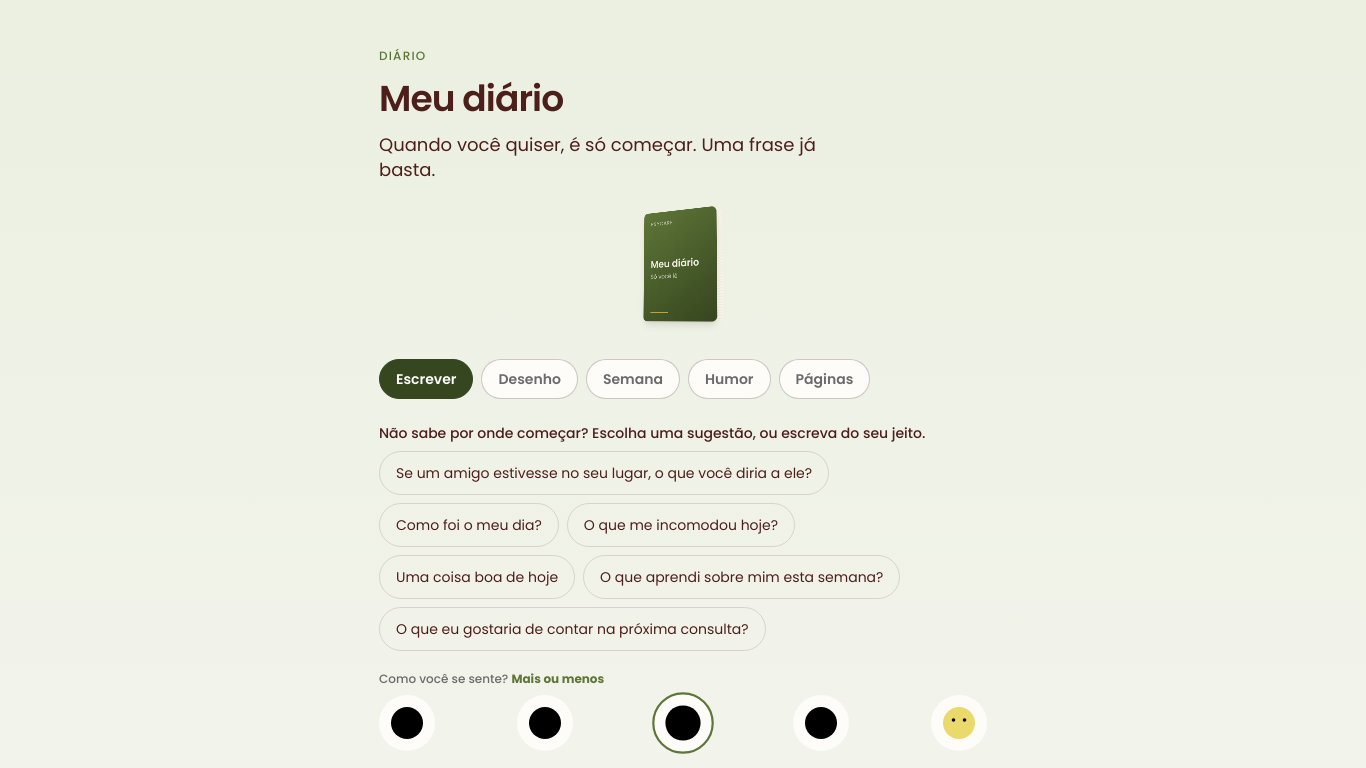
it: Diário novo › a aba Semana mostra os sete dias
This screenshot has width=1366, height=768.
Click the tab "Semana". click: (633, 378)
box: [586, 358, 680, 398]
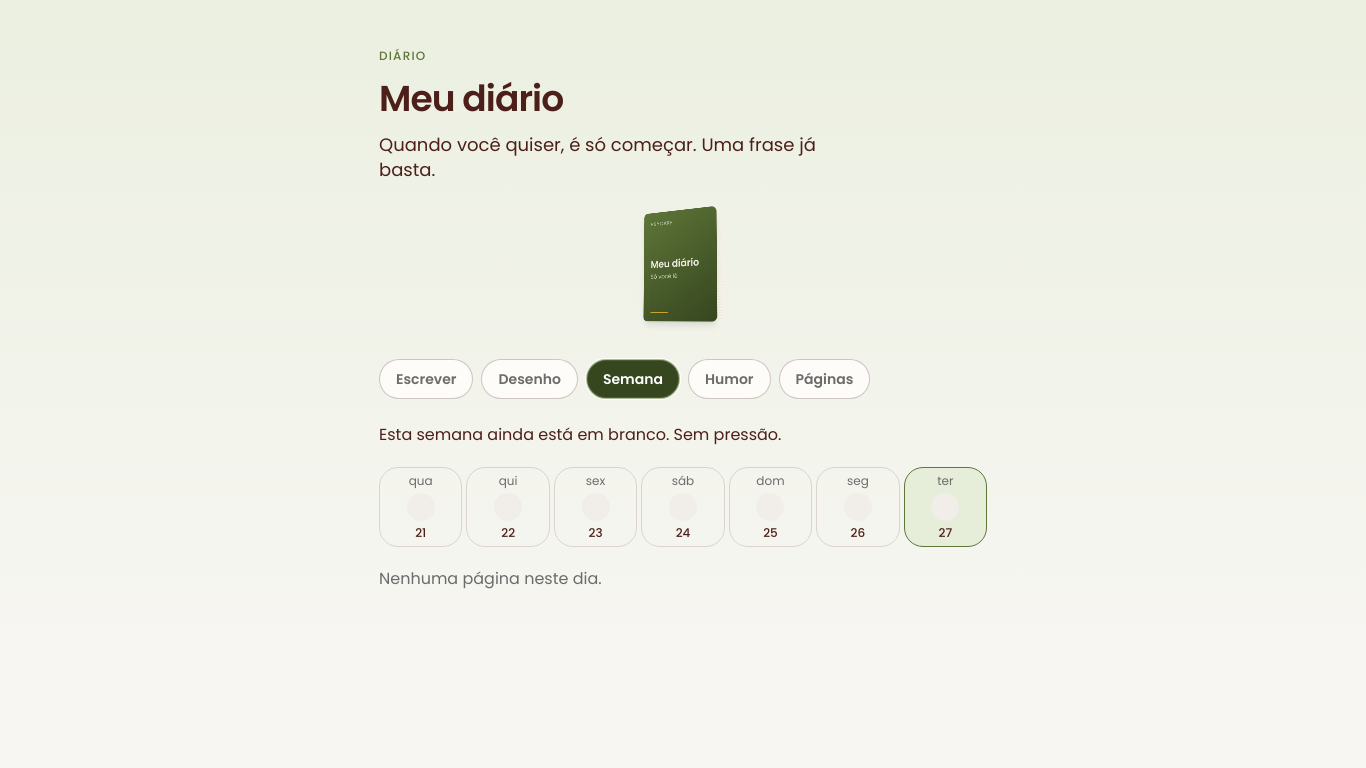
Check: the number of buttons "qua 21" is 7
